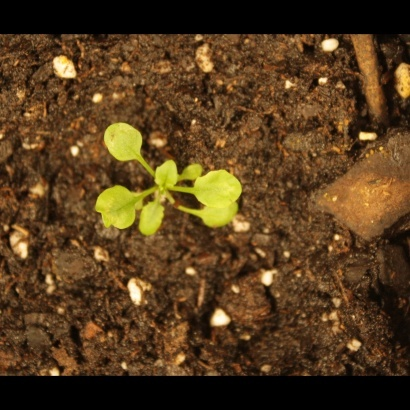leaf: (191, 164, 250, 212), (97, 114, 151, 165), (84, 180, 138, 230), (193, 199, 250, 243), (138, 196, 166, 246), (153, 153, 183, 197)
